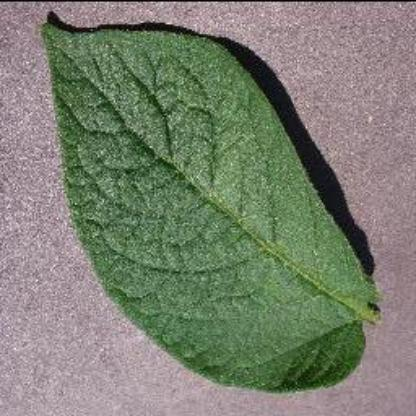Healthy-plant: (40, 17, 382, 395)
